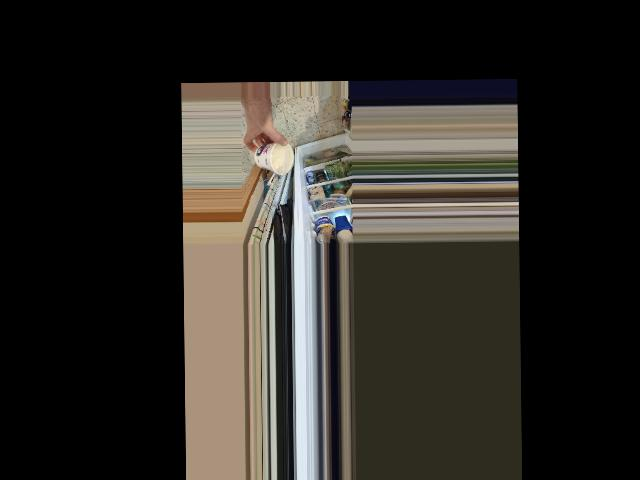cotage: (256, 140, 297, 173)
